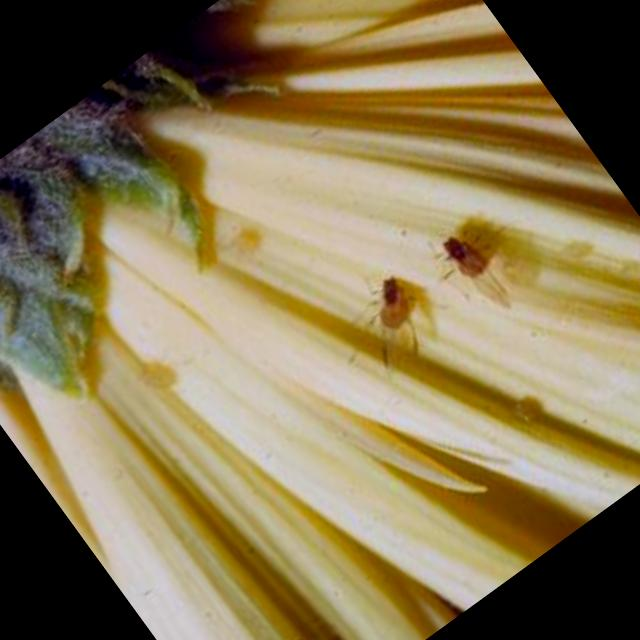Green peach aphid: (284, 225, 476, 424), (395, 180, 557, 346)
